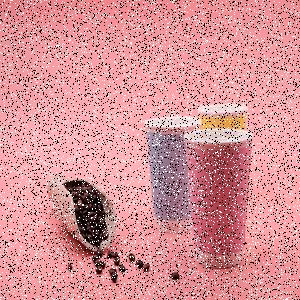Cup: (185, 130, 255, 270), (145, 116, 203, 234), (198, 103, 250, 129)
